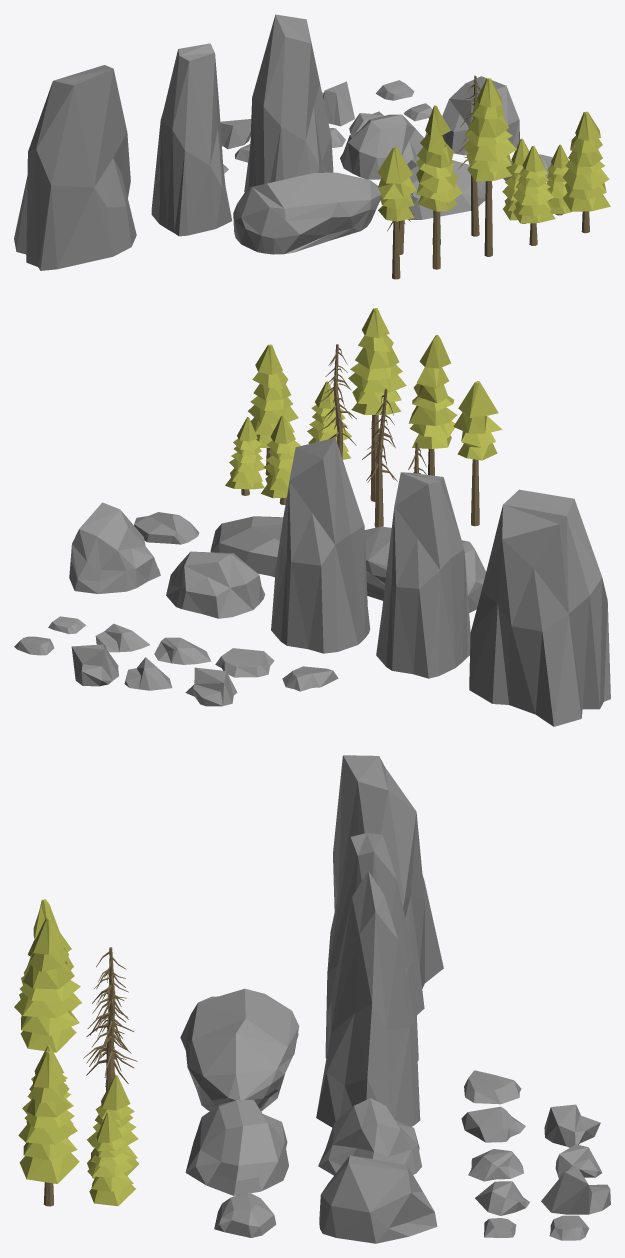
File: Environment_pack.obj
3 renders of one model, top to bottom at view 1: azimuth 30°, elevation 25°; view 2: azimuth 150°, elevation 25°; view 3: azimuth 270°, elevation 25°, orthographic. The views are drawn at different scales.
Parts seen in each view (by area): view 1: rock_pilar_3_Plane.007, rock_pilar_2_Plane.006, rock_pilar_1_Plane.005, Rock_3_Plane.004, Tree_long_1_Circle.006, Tree_long_2_Circle.007, Rock_5_Plane.002, Tree_1_Circle.001, Tree_long_3_Circle.010, Rock_4_Plane.003, Tree_2_Circle.005, Rock_2_Plane.001 (+6 smaller); view 2: rock_pilar_3_Plane.007, rock_pilar_1_Plane.005, rock_pilar_2_Plane.006, Rock_4_Plane.003, Rock_5_Plane.002, Tree_long_1_Circle.006, Tree_long_2_Circle.007, Rock_2_Plane.001, Tree_long_3_Circle.010, Tree_1_Circle.001, Rock_3_Plane.004, Tree_short_2_Circle.008 (+13 smaller); view 3: rock_pilar_1_Plane.005, Rock_3_Plane.004, rock_pilar_3_Plane.007, Rock_4_Plane.003, Rock_2_Plane.001, Tree_long_1_Circle.006, Tree_1_Circle.001, rock_pilar_2_Plane.006, Rock_5_Plane.002, Tree_short_1_Circle.009, rock_small_6_Plane.011, Rock_1_Plane (+10 smaller).
Boxes of the visible parts, <box> form: rock_pilar_3_Plane.007: <box>14,65,136,270</box>; rock_pilar_2_Plane.006: <box>151,43,232,236</box>; rock_pilar_1_Plane.005: <box>244,14,333,192</box>; Rock_3_Plane.004: <box>233,172,381,254</box>; Tree_long_1_Circle.006: <box>463,78,516,256</box>; Tree_long_2_Circle.007: <box>416,105,462,269</box>; Rock_5_Plane.002: <box>340,114,423,179</box>; Tree_1_Circle.001: <box>562,111,610,233</box>; Tree_long_3_Circle.010: <box>377,147,416,279</box>; Rock_4_Plane.003: <box>442,76,519,155</box>; Tree_2_Circle.005: <box>513,146,555,245</box>; Rock_2_Plane.001: <box>407,158,492,219</box>; rock_pilar_3_Plane.007: <box>469,489,610,726</box>; rock_pilar_1_Plane.005: <box>271,438,370,653</box>; rock_pilar_2_Plane.006: <box>376,472,470,678</box>; Rock_4_Plane.003: <box>69,502,160,593</box>; Rock_5_Plane.002: <box>166,551,265,618</box>; Tree_long_1_Circle.006: <box>348,308,406,501</box>; Tree_long_2_Circle.007: <box>408,335,457,475</box>; Rock_2_Plane.001: <box>210,516,283,577</box>; Tree_long_3_Circle.010: <box>453,381,502,526</box>; Tree_1_Circle.001: <box>248,344,298,475</box>; Rock_3_Plane.004: <box>364,526,485,612</box>; Tree_short_2_Circle.008: <box>261,415,300,504</box>; rock_pilar_1_Plane.005: <box>316,871,420,1127</box>; Rock_3_Plane.004: <box>180,988,299,1111</box>; rock_pilar_3_Plane.007: <box>333,755,443,1014</box>; Rock_4_Plane.003: <box>319,1155,437,1243</box>; Rock_2_Plane.001: <box>185,1100,288,1195</box>; Tree_long_1_Circle.006: <box>14,917,81,1052</box>; Tree_1_Circle.001: <box>18,1051,79,1206</box>; rock_pilar_2_Plane.006: <box>325,833,418,1060</box>; Rock_5_Plane.002: <box>318,1098,421,1175</box>; Tree_short_1_Circle.009: <box>87,1112,135,1206</box>; rock_small_6_Plane.011: <box>541,1167,610,1214</box>; Rock_1_Plane: <box>214,1191,276,1237</box>.
Bounding box in the file's own units: 81.19 × 31.8 × 67.38.
1 material, 1 textured.
